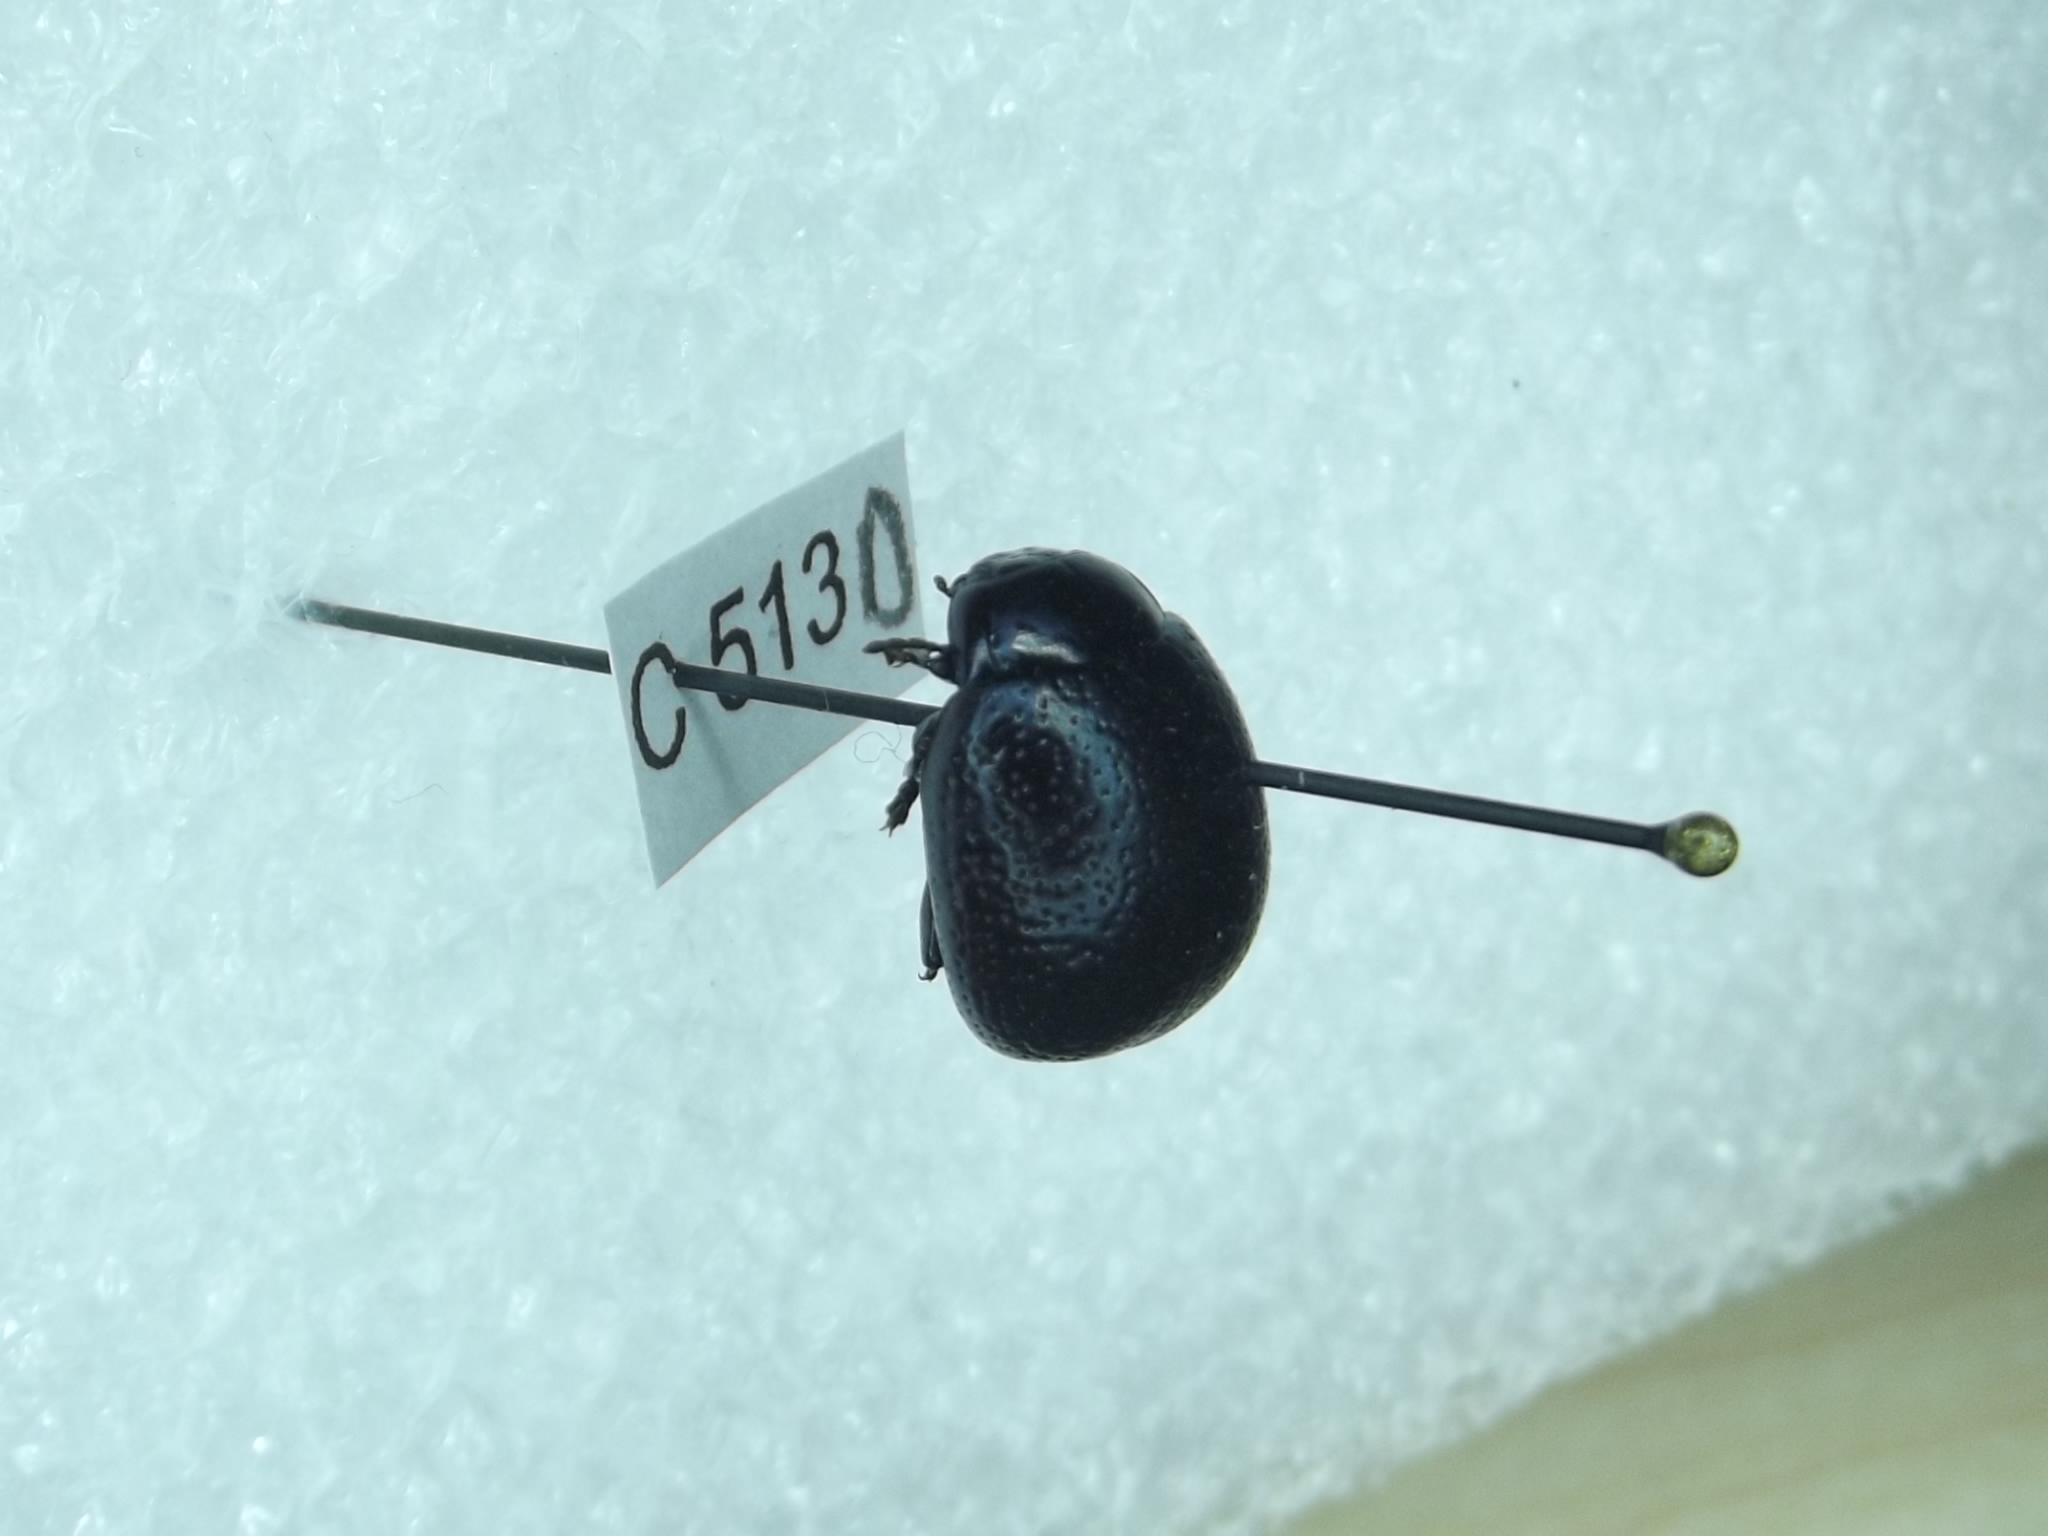Chrysolina_oricalcia: (876, 539, 1284, 1078)
